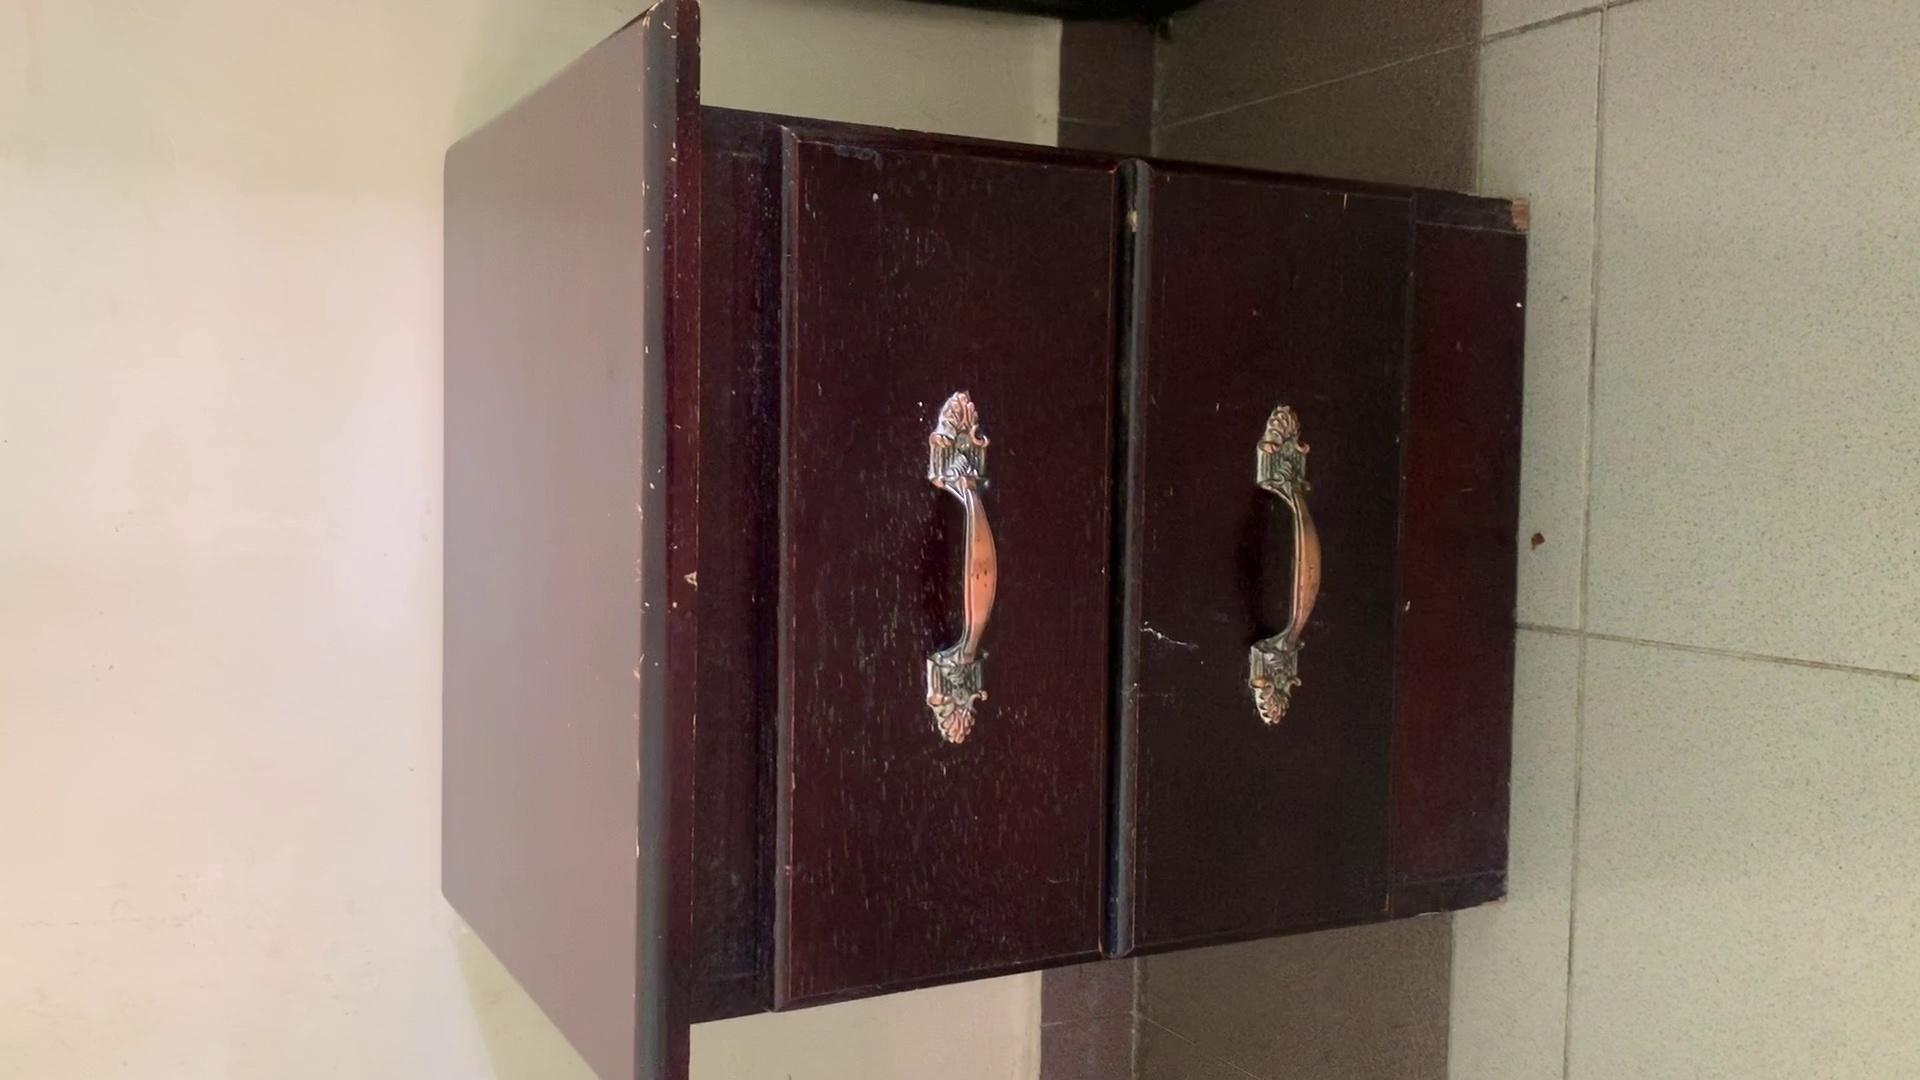cabinet_door: (779, 148, 1108, 969), (1129, 185, 1403, 955)
handle: (913, 389, 1023, 757), (1236, 400, 1341, 733)
